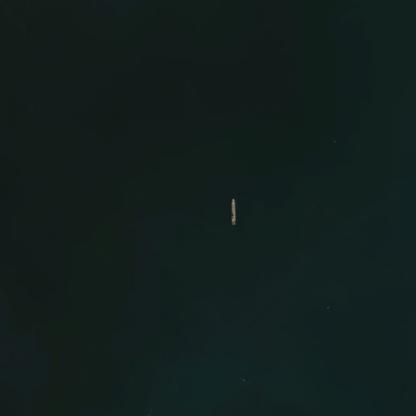ship: (228, 195, 237, 228)
